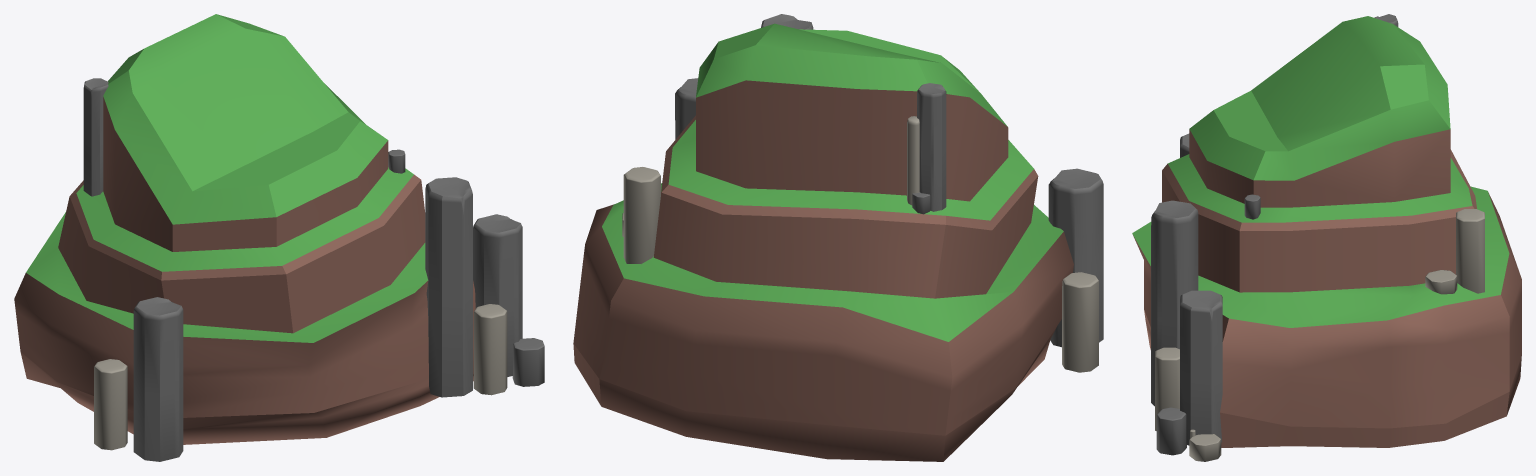
Rendered from Mountain_01.fbx.
3 renders of one model, left to right at view 1: azimuth 30°, elevation 25°; view 2: azimuth 150°, elevation 25°; view 3: azimuth 270°, elevation 25°, orthographic. The views are drawn at different scales.
Visible parts, largest first — view 1: cailloux_02, Rocher_06, Rocher_10, Rocher_01, Rocher_02, Rocher_09, Rocher_12, Rocher_03; view 2: cailloux_02, Rocher_10, Rocher_09, Rocher_12, Rocher_07, Rocher_14, Rocher_01; view 3: cailloux_02, Rocher_06, Rocher_01, Rocher_07, Rocher_02, Rocher_03, Rocher_05, Rocher_08.
Part boxes in pixels (left/top/right/bottom): cailloux_02: left=14, top=14, right=475, bottom=444; Rocher_06: left=425, top=177, right=472, bottom=397; Rocher_10: left=133, top=297, right=183, bottom=461; Rocher_01: left=473, top=214, right=522, bottom=376; Rocher_02: left=473, top=304, right=507, bottom=395; Rocher_09: left=94, top=359, right=127, bottom=450; Rocher_12: left=83, top=78, right=108, bottom=196; Rocher_03: left=512, top=338, right=544, bottom=386; cailloux_02: left=573, top=23, right=1073, bottom=461; Rocher_10: left=1048, top=168, right=1103, bottom=347; Rocher_09: left=1062, top=272, right=1098, bottom=372; Rocher_12: left=917, top=83, right=946, bottom=211; Rocher_07: left=623, top=167, right=660, bottom=263; Rocher_14: left=907, top=116, right=919, bottom=205; Rocher_01: left=675, top=78, right=698, bottom=139; cailloux_02: left=1132, top=16, right=1521, bottom=447; Rocher_06: left=1151, top=200, right=1198, bottom=406; Rocher_01: left=1180, top=290, right=1222, bottom=445; Rocher_07: left=1456, top=209, right=1484, bottom=293; Rocher_02: left=1155, top=347, right=1179, bottom=430; Rocher_03: left=1156, top=407, right=1186, bottom=455; Rocher_05: left=1189, top=434, right=1221, bottom=461; Rocher_08: left=1425, top=269, right=1457, bottom=294.
Bounding box in the file's own units: 10.23 × 7.62 × 8.57.
